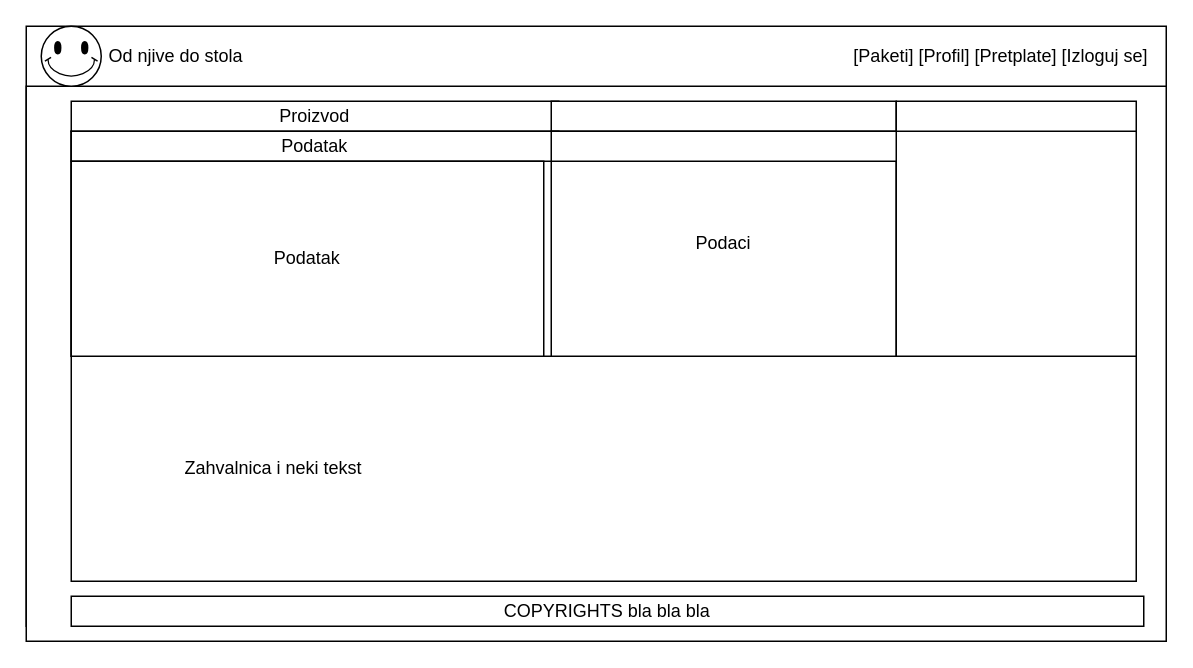
The diagram is 1193 pixels wide and 668 high, and some of its shapes have lost their labels. Here are the shapes that lost their labels. From the top down, the centre of each, then its label:
At point (723, 115): "Opis".
At point (1015, 115): "Cena".
At point (723, 145): "Adresa".
